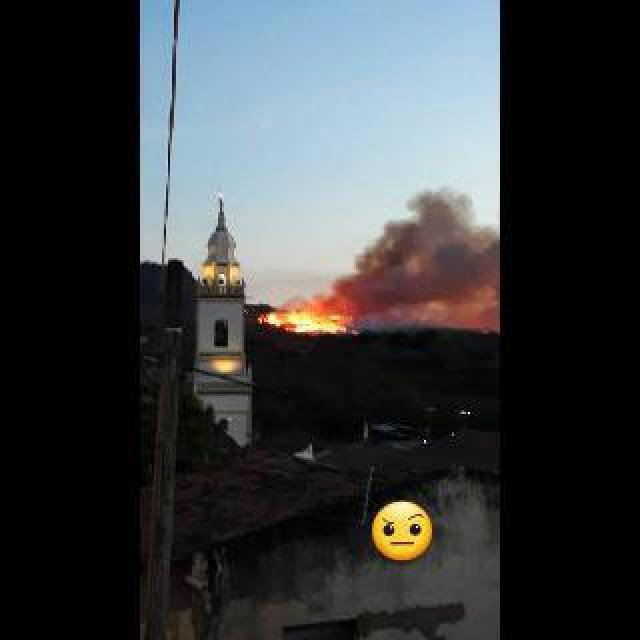Fire: (266, 292, 356, 340)
Smoke: (325, 188, 503, 339)
